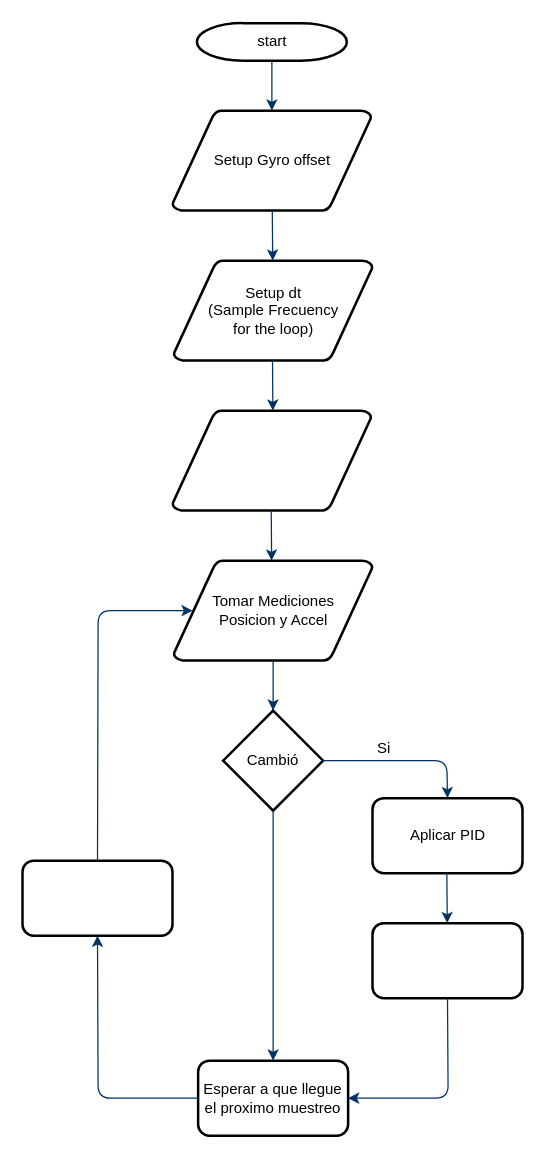
The diagram is 545 pixels wide and 1158 high, and some of its shapes have lost their labels. Each missing label, with the centre of its shape:
Accionar motores: point 447,960
main Loop: point 271,460
t_pasado=t_actual: point 97,897
